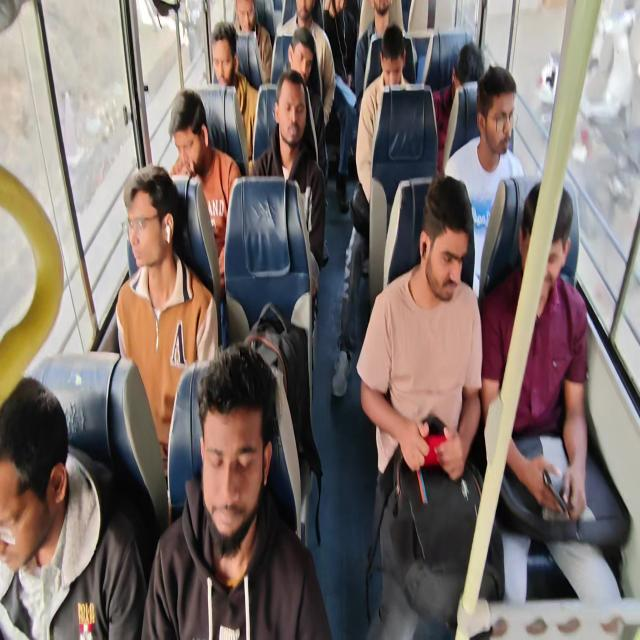person: (355, 174, 503, 637), (480, 180, 626, 608), (141, 342, 332, 638), (0, 376, 147, 639), (115, 163, 219, 486), (332, 23, 414, 397), (249, 69, 327, 313), (444, 65, 524, 296), (168, 88, 241, 296), (355, 23, 413, 204), (322, 0, 358, 213), (280, 0, 336, 127), (431, 42, 484, 172), (210, 21, 258, 160), (286, 27, 328, 184), (354, 0, 404, 109), (232, 0, 272, 85), (322, 0, 358, 88)
